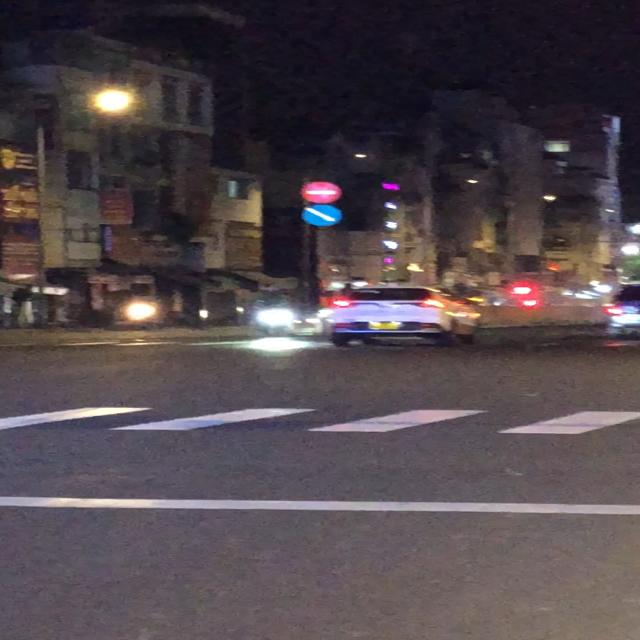Bien bao cam di nguoc chieu: (298, 180, 343, 203)
Bien bao huong phai di vong chuong ngai vat: (301, 203, 344, 227)
